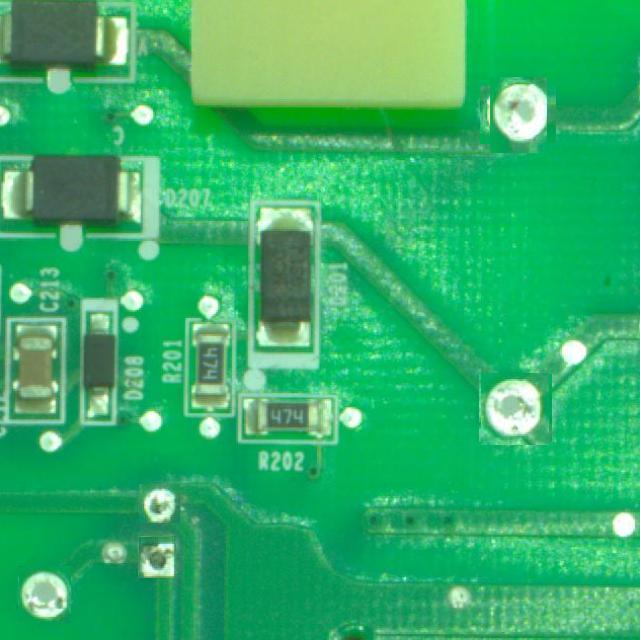lack_of_part: (480, 373, 551, 444), (484, 82, 552, 148), (18, 566, 71, 623), (139, 483, 180, 524), (138, 536, 176, 578)
